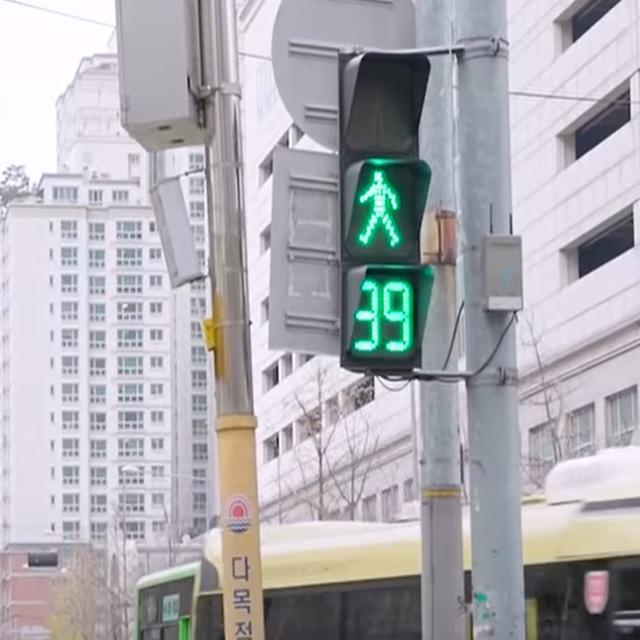green_light: (351, 168, 424, 359)
